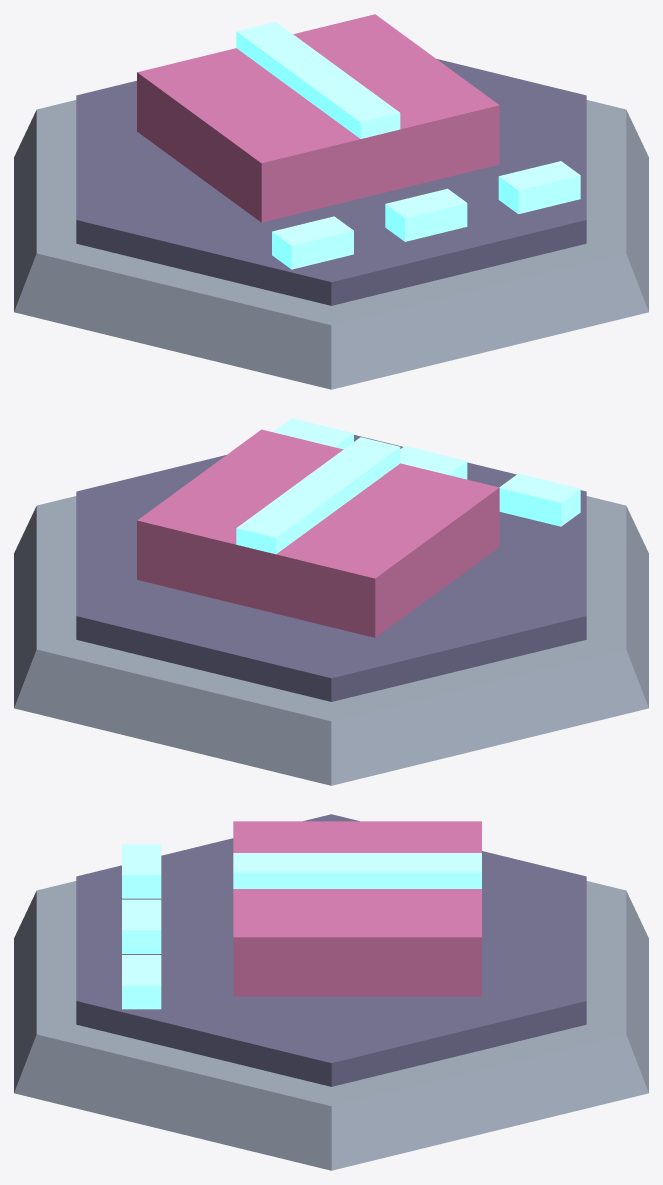
Rendered from neon-dispatch-delivery-completion-token__186.glb.
3 renders of one model, top to bottom at view 1: azimuth 30°, elevation 25°; view 2: azimuth 150°, elevation 25°; view 3: azimuth 270°, elevation 25°, orthographic.
Parts seen in each view (by area): view 1: metal, shell, accent, light; view 2: metal, shell, accent, light; view 3: metal, shell, accent, light.
Part boxes in pixels (left/top/right/bottom): metal: left=14, top=100, right=648, bottom=389; shell: left=76, top=59, right=586, bottom=305; accent: left=137, top=14, right=499, bottom=222; light: left=236, top=22, right=580, bottom=269; metal: left=14, top=496, right=648, bottom=785; shell: left=76, top=435, right=586, bottom=701; accent: left=137, top=429, right=499, bottom=637; light: left=236, top=418, right=580, bottom=554; metal: left=14, top=881, right=648, bottom=1170; shell: left=76, top=814, right=586, bottom=1086; accent: left=233, top=821, right=481, bottom=996; light: left=122, top=844, right=481, bottom=1009.
Size of the model in its own units: 0.56 by 0.129 by 0.485.
